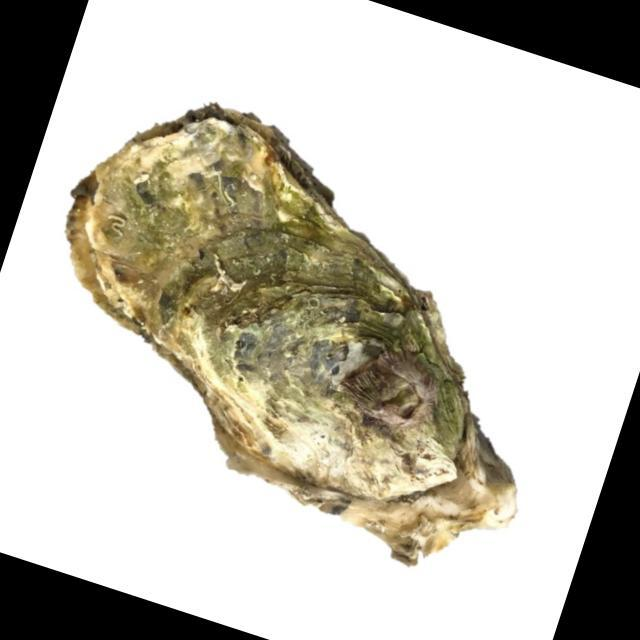Oyster- Indeterminate: (64, 103, 518, 568)
